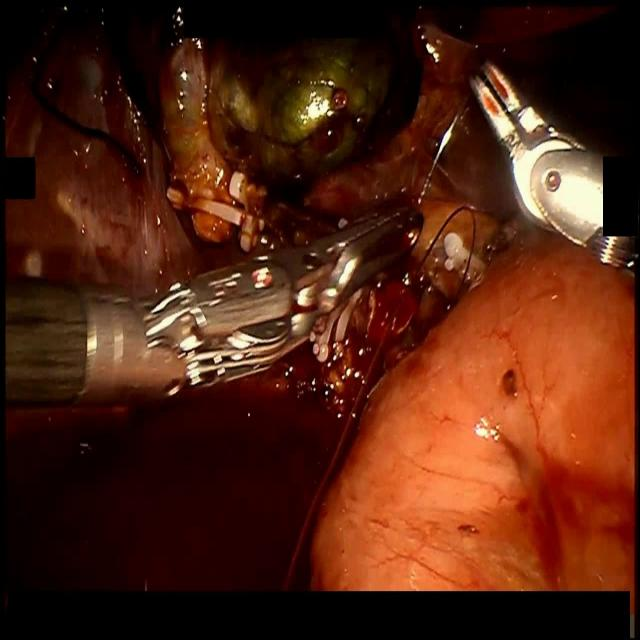surgical-area: (0, 0, 640, 596)
surgical-tool: (0, 197, 426, 411), (468, 60, 637, 276)
